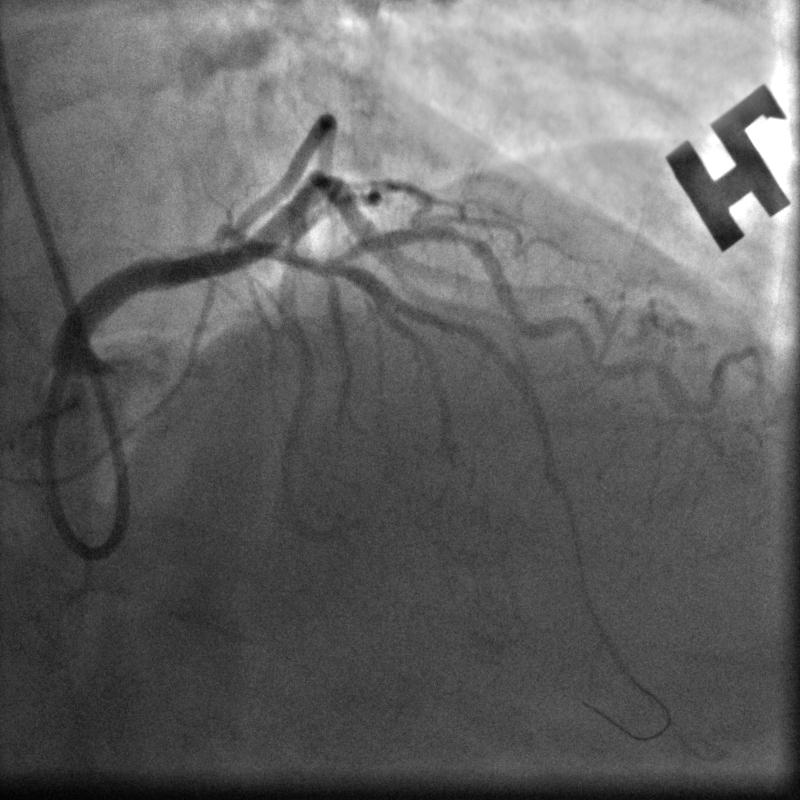Stenosis: (444, 217, 486, 257)
